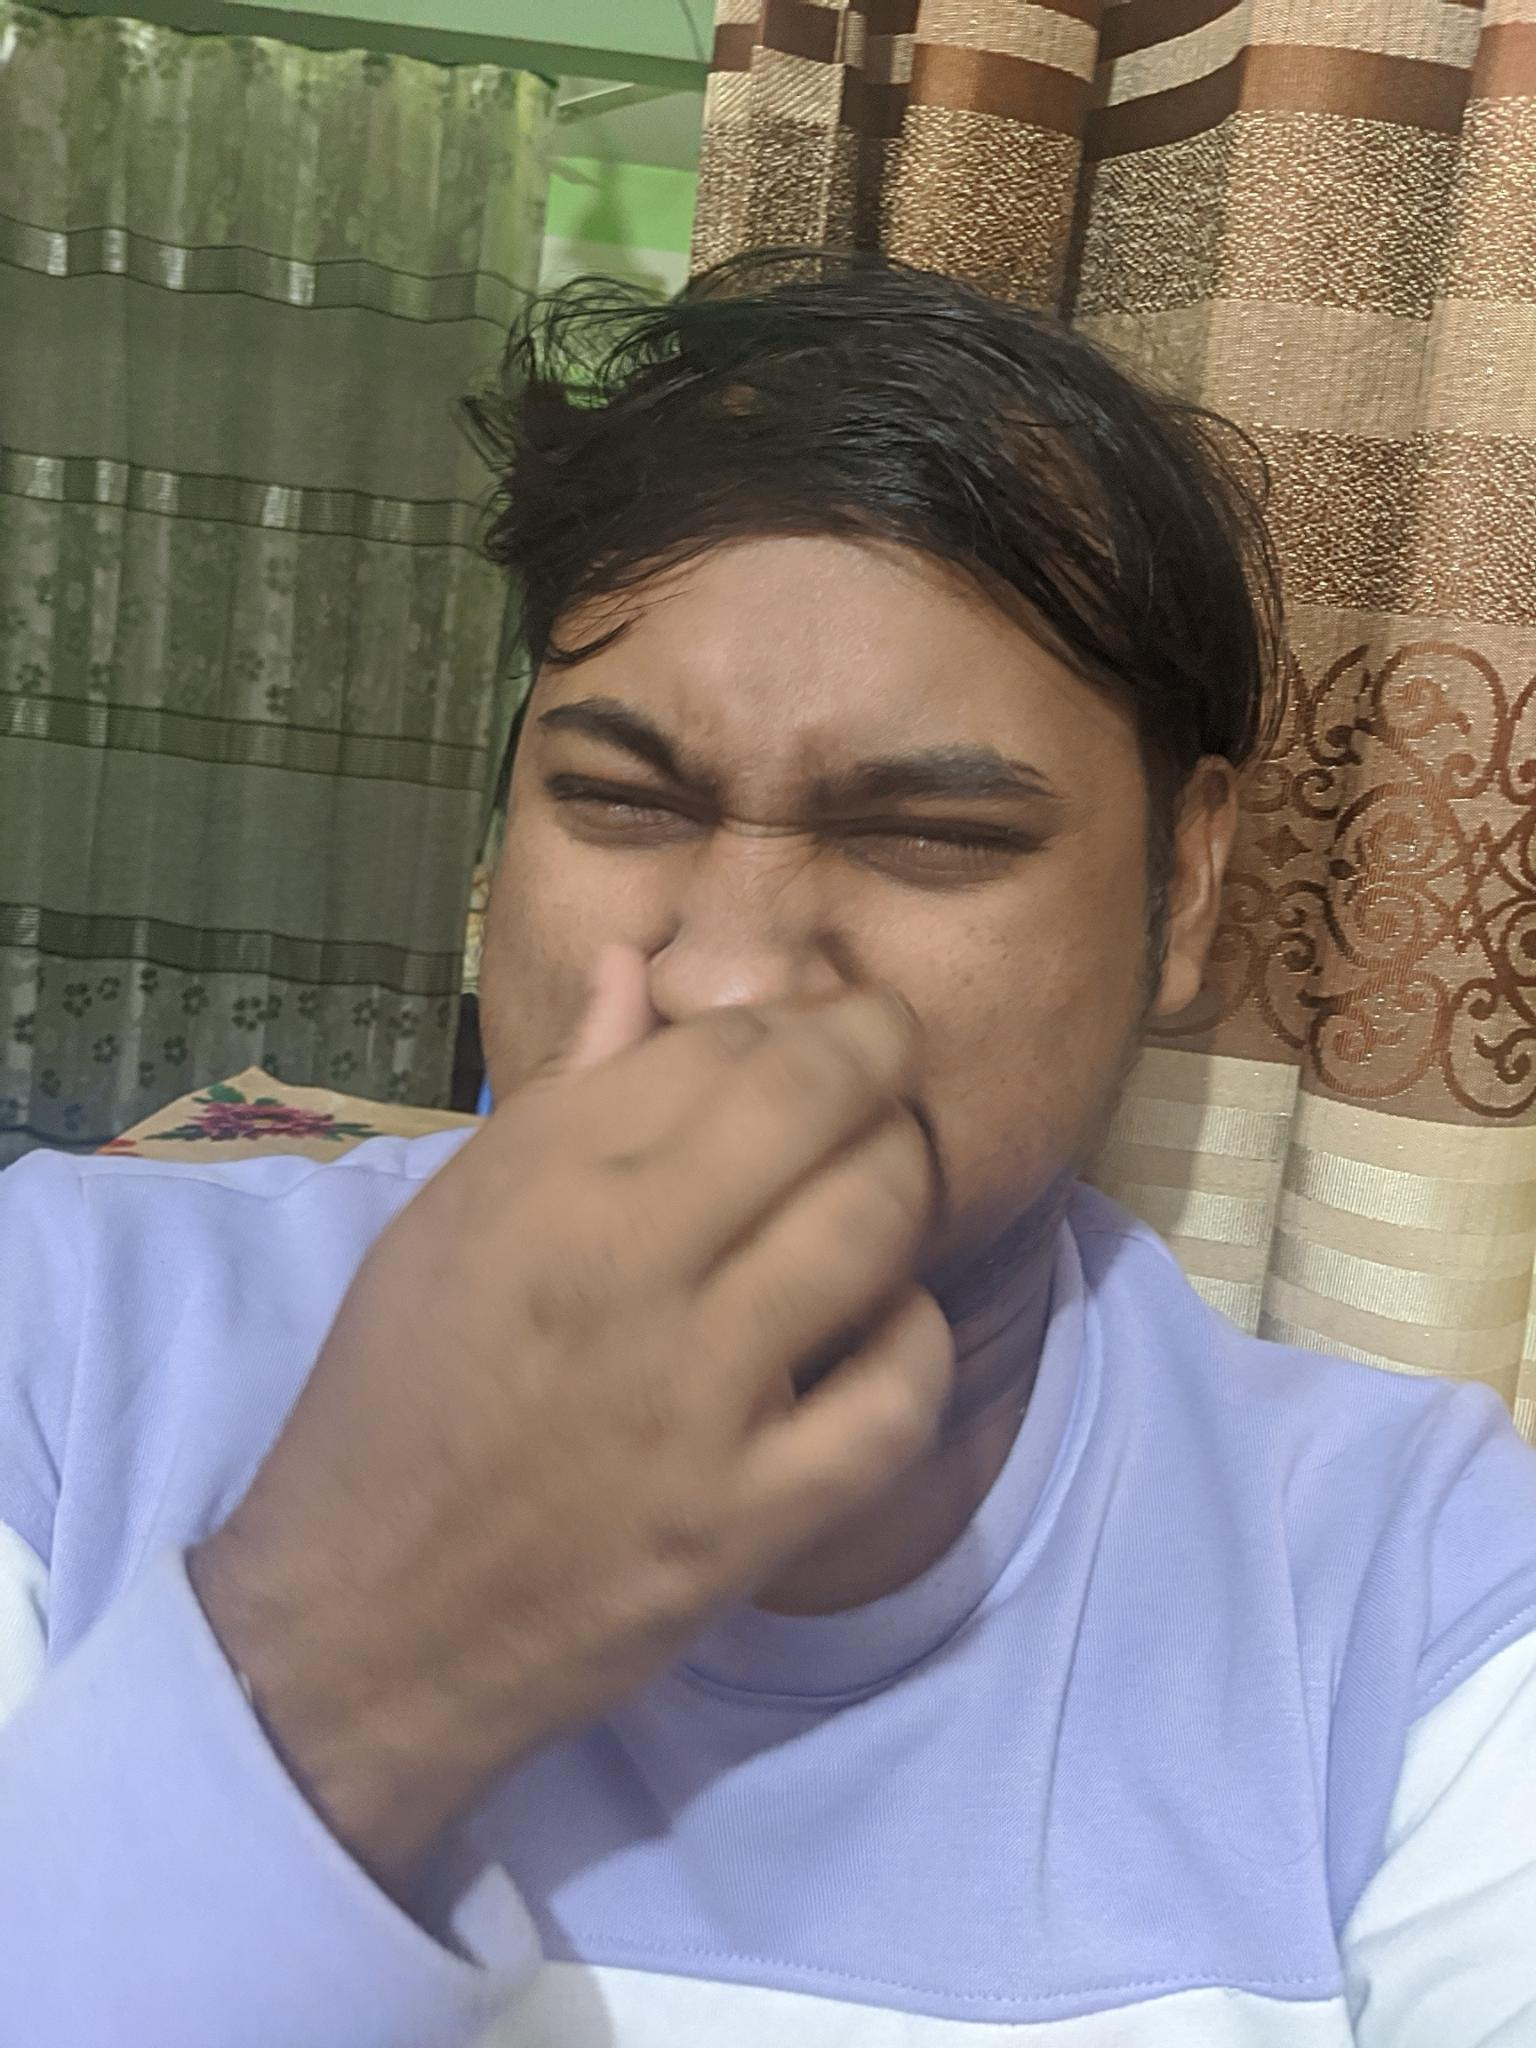Disgust: (453, 584, 1112, 1379)
